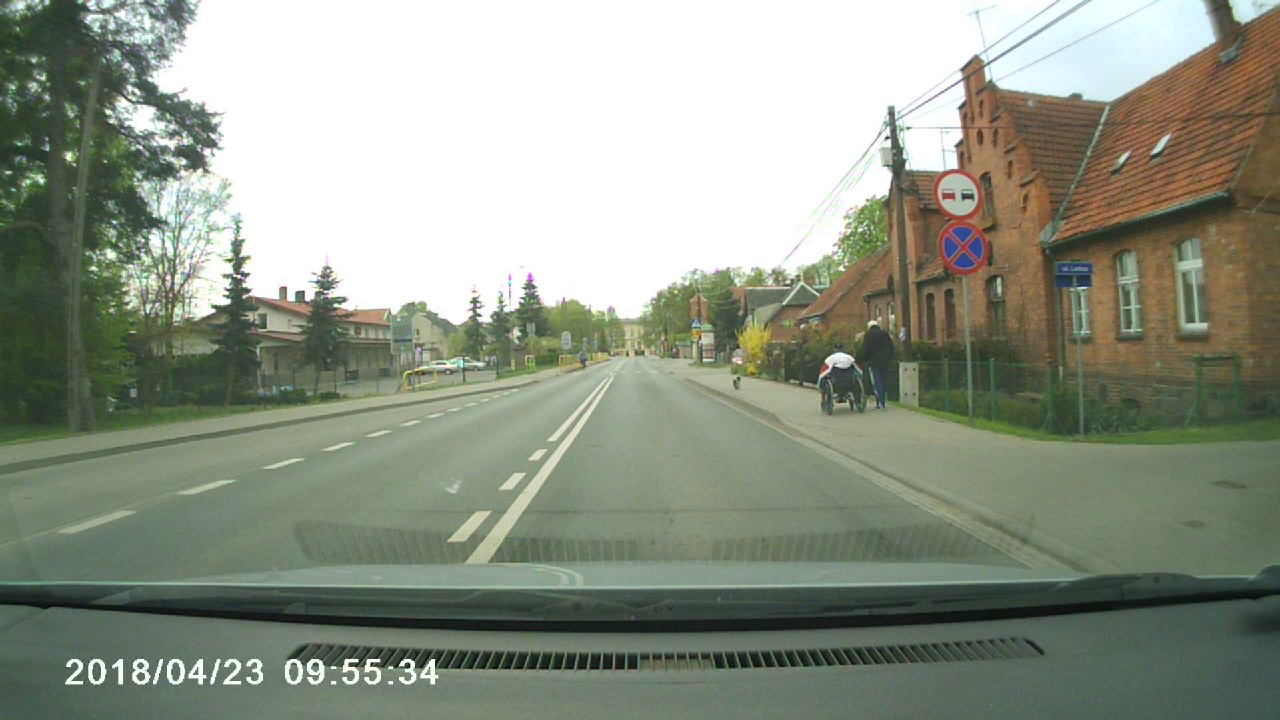B25: (934, 170, 984, 219)
B36: (938, 221, 989, 275)
